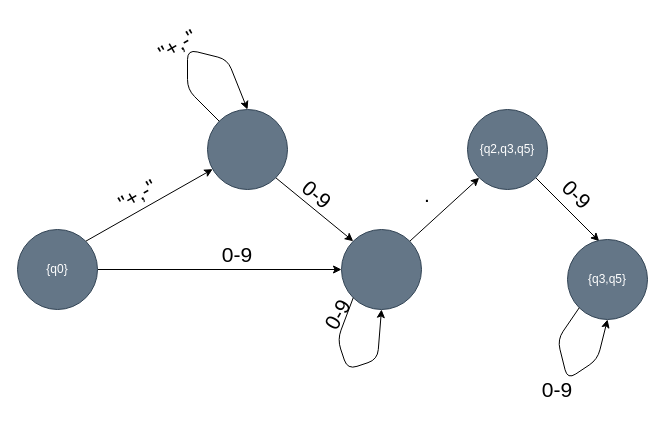
This 665x422 diagram has some shape labels left out. The centre of each missing label's shape, as x and y in pixels:
"{q0,q1}" goes at (247,149).
"{q1,q4}" goes at (381,269).
